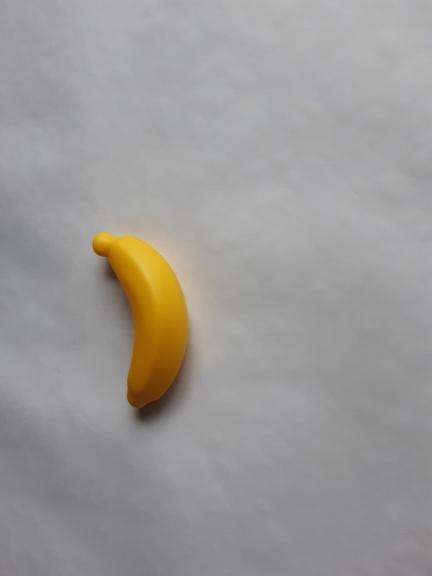banana: (82, 225, 200, 419)
